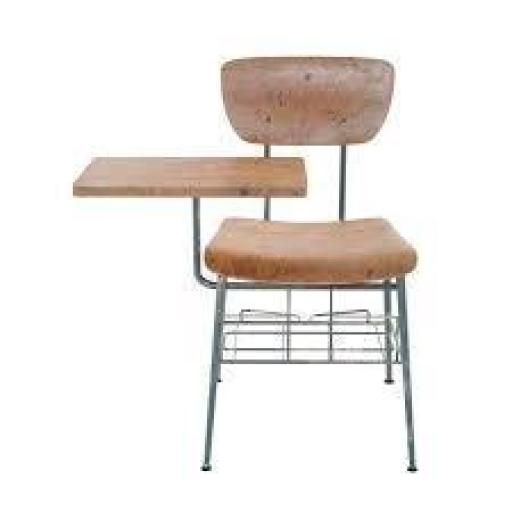chair: (64, 46, 432, 482)
